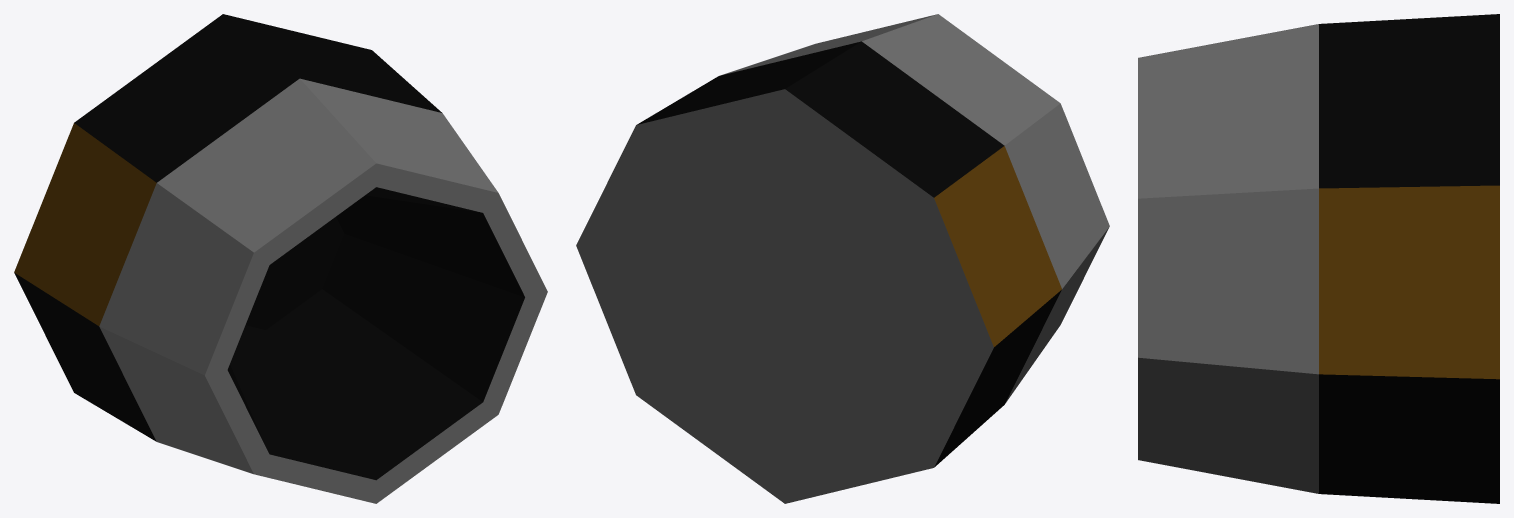
The model's file is E-2_Thruster_Part_Wipeout.fbx.
The picture shows the model from 3 angles, left to right: view 1: azimuth 30°, elevation 25°; view 2: azimuth 150°, elevation 25°; view 3: azimuth 270°, elevation 25°; orthographic projection. The views are drawn at different scales.
Visible parts, largest first — view 1: E-2_Thruster_Ship; view 2: E-2_Thruster_Ship; view 3: E-2_Thruster_Ship.
Part boxes in pixels (x1,y1,x2,y2): E-2_Thruster_Ship: (14,14,547,503); E-2_Thruster_Ship: (576,14,1109,503); E-2_Thruster_Ship: (1138,14,1499,503).
Size of the model in its own units: 168 by 107 by 159.
